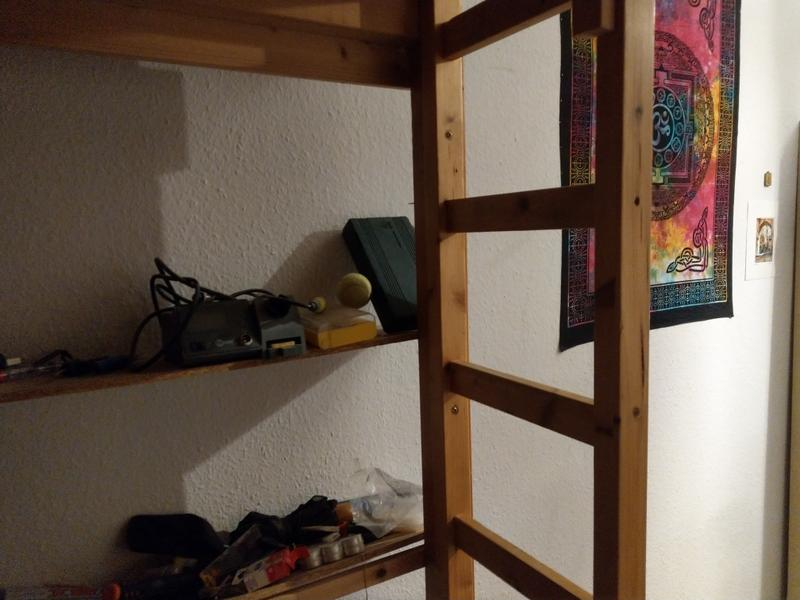Tennisball: (335, 270, 374, 311)
